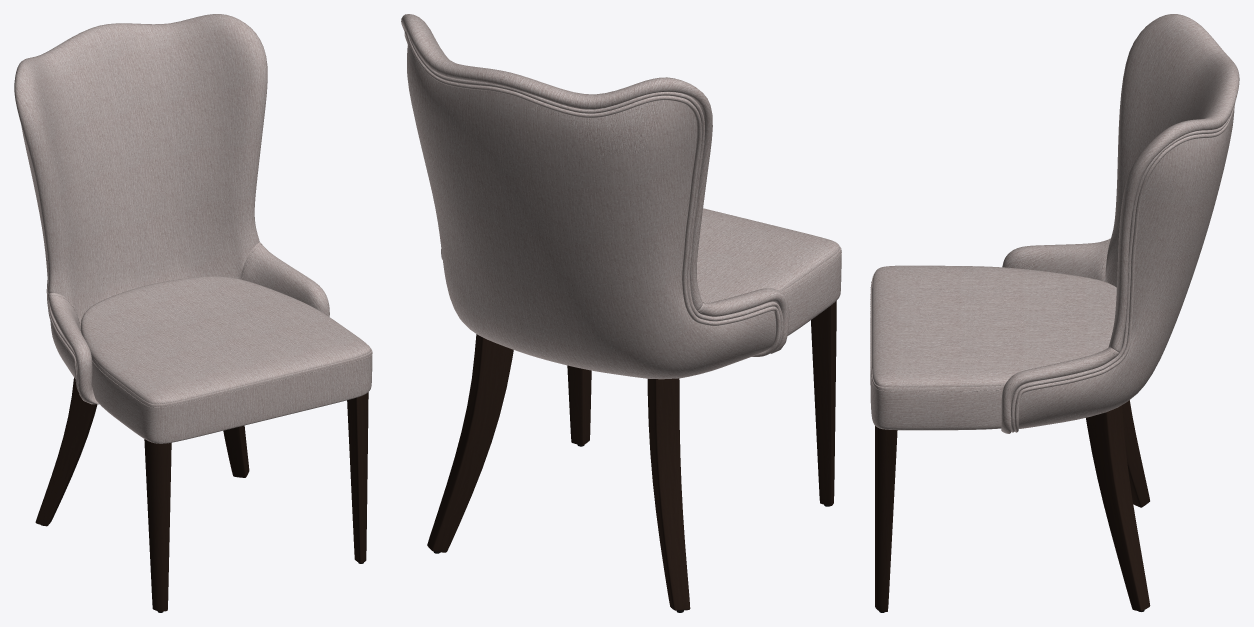
File: car.glb
3 views of the same model, side by side, from view 1: azimuth 30°, elevation 25°; view 2: azimuth 150°, elevation 25°; view 3: azimuth 270°, elevation 25° (orthographic). The views are drawn at different scales.
Parts seen in each view (by area): view 1: seat, Leg; view 2: seat, Leg; view 3: seat, Leg.
Boxes of the visible parts, x1,y1,x2,y2 form: seat: [14, 14, 372, 443]; Leg: [35, 377, 368, 611]; seat: [401, 14, 841, 379]; Leg: [427, 300, 836, 610]; seat: [870, 14, 1239, 433]; Leg: [875, 400, 1150, 611].
Bounding box in the file's own units: 0.54 × 0.9199 × 0.6301.
Materials: 3 (2 with a texture image).
